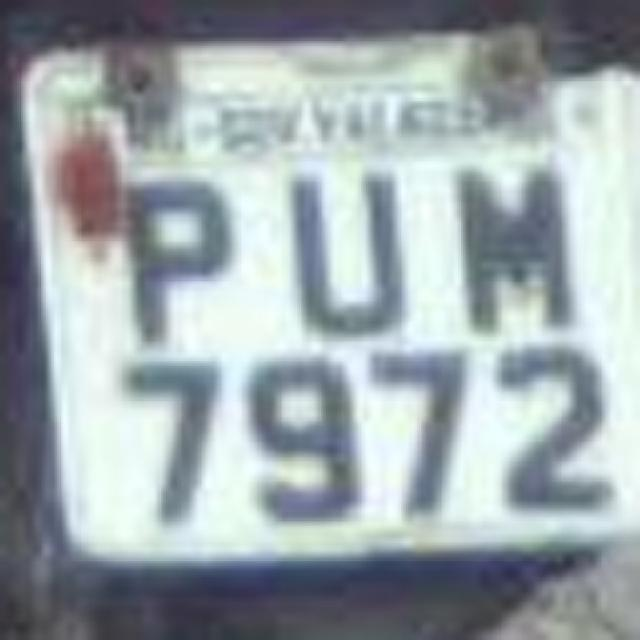2: (472, 324, 640, 516)
7: (356, 331, 496, 524), (96, 352, 236, 536)
9: (224, 335, 384, 540)
M: (428, 140, 584, 332)
P: (112, 168, 228, 364)
U: (272, 148, 428, 352)
